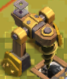dark_elixir_colector: (3, 1, 64, 74)
